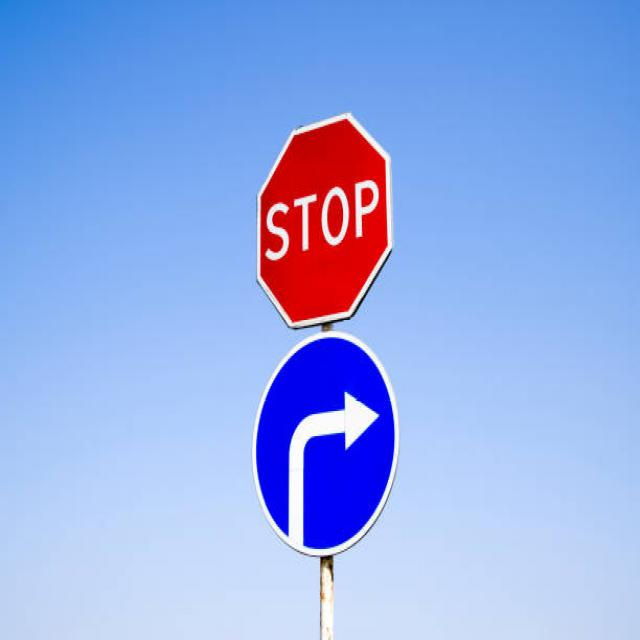compulsory_keep_right: (242, 328, 405, 563)
